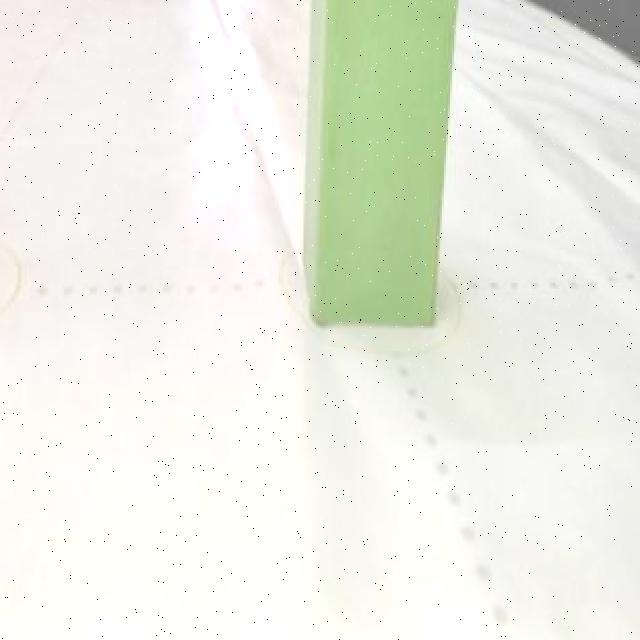greenbox: (302, 0, 461, 324)
